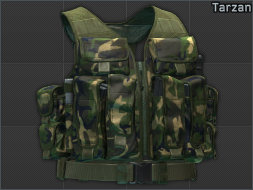Splav Tarzan M22 chest rig: (0, 0, 253, 190)
